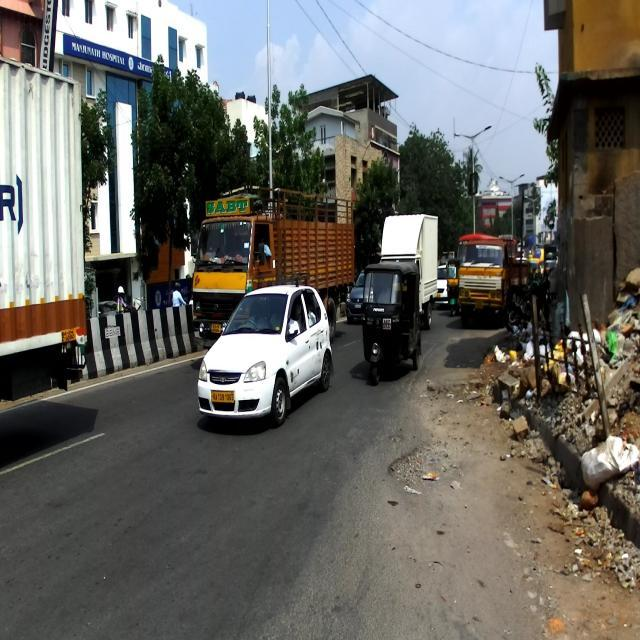Pothole: (382, 433, 459, 546)
